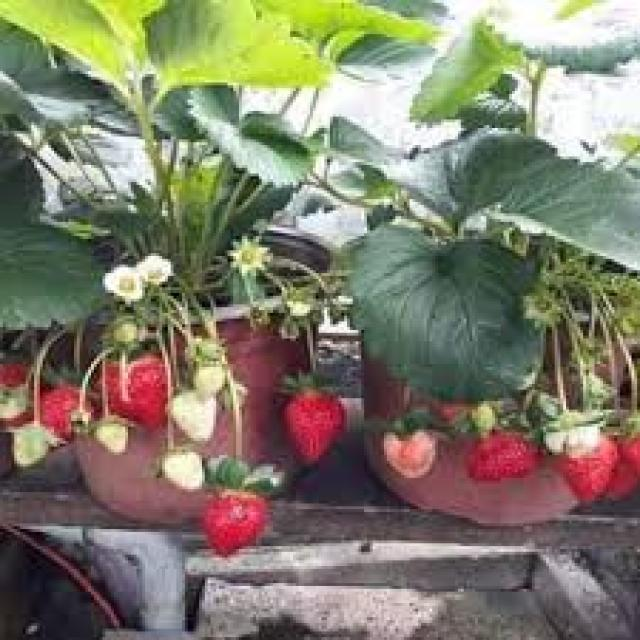Fruta sana: (94, 350, 180, 435), (556, 416, 628, 509), (279, 382, 347, 474), (464, 416, 539, 483), (210, 482, 266, 558), (603, 410, 640, 510), (41, 376, 92, 447), (390, 418, 440, 482), (0, 358, 37, 427)
